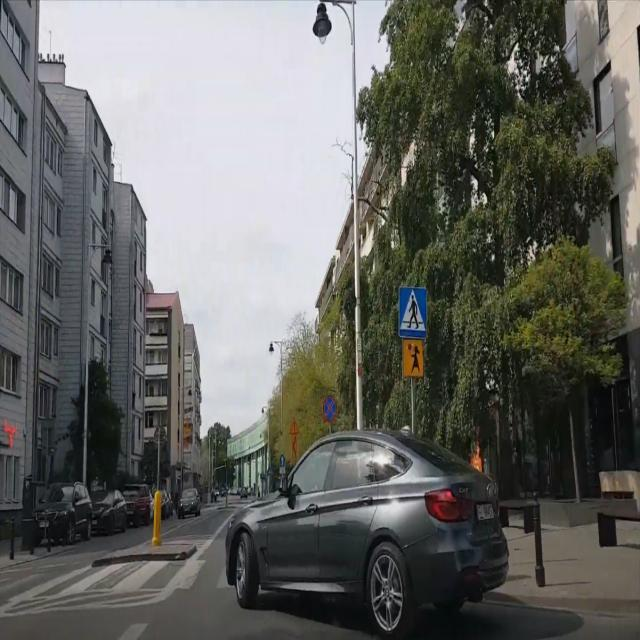Przejscie dla pieszych: (399, 286, 427, 340)
Zakaz zatrzymywania sie: (323, 394, 336, 420)
